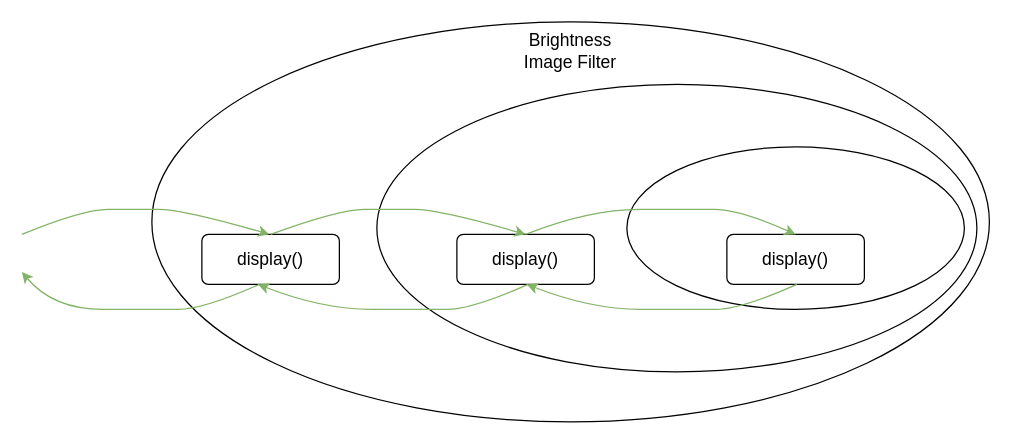
Some shapes in this 1011 by 444 pixel diagram are drawn without their labels. The shapes that lost their labels are listed below. From the top down, each one's box as (x1, y1, x2, y2) in pixels, then its label:
(376, 83, 977, 372): Contrast Image Filter
(626, 146, 964, 309): Saturation Image Filter
